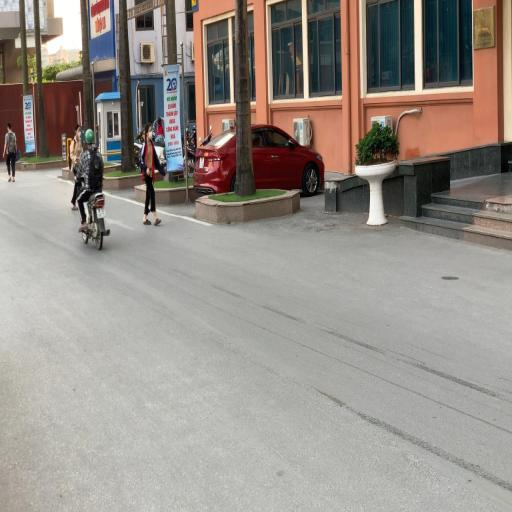bike: (74, 125, 110, 251)
numberplate: (96, 207, 106, 220)
with helmet: (84, 128, 96, 146)
